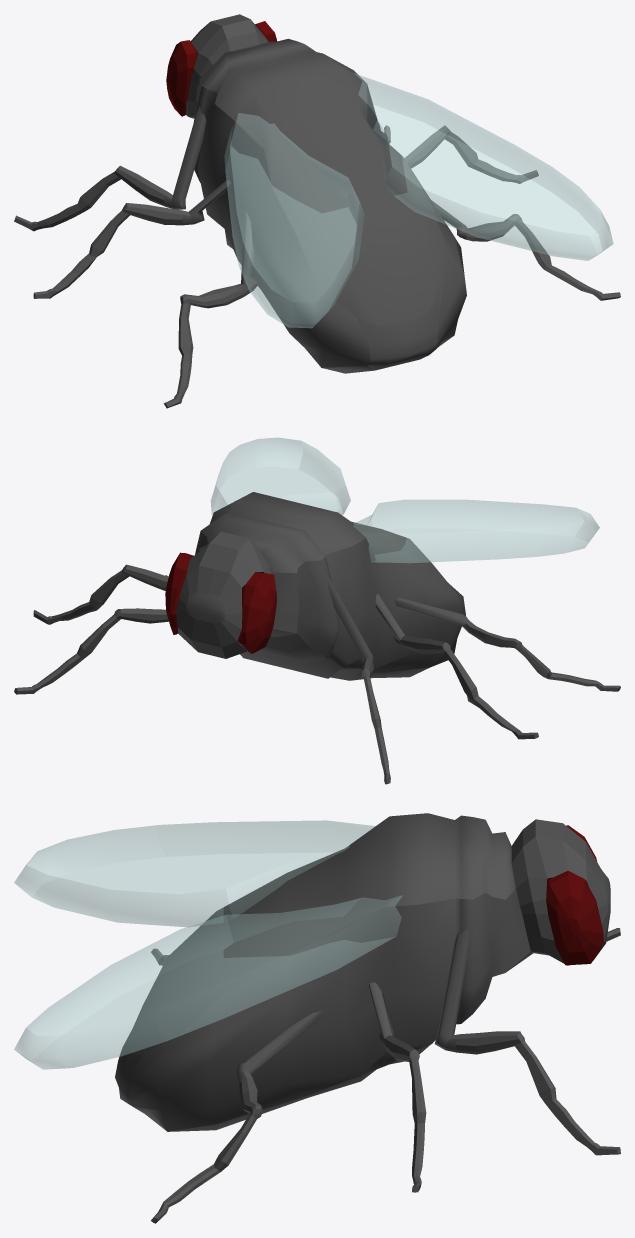
File: Fly.fbx
3 renders of one model, top to bottom at view 1: azimuth 30°, elevation 25°; view 2: azimuth 150°, elevation 25°; view 3: azimuth 270°, elevation 25°, orthographic. The views are drawn at different scales.
Parts seen in each view (by area): view 1: polySurface8; view 2: polySurface8; view 3: polySurface8.
Part boxes in pixels (left/top/right/bottom): polySurface8: left=14, top=14, right=620, bottom=408; polySurface8: left=14, top=437, right=620, bottom=784; polySurface8: left=14, top=813, right=620, bottom=1223.
Bounding box in the file's own units: 2.95 × 1.29 × 2.53.
